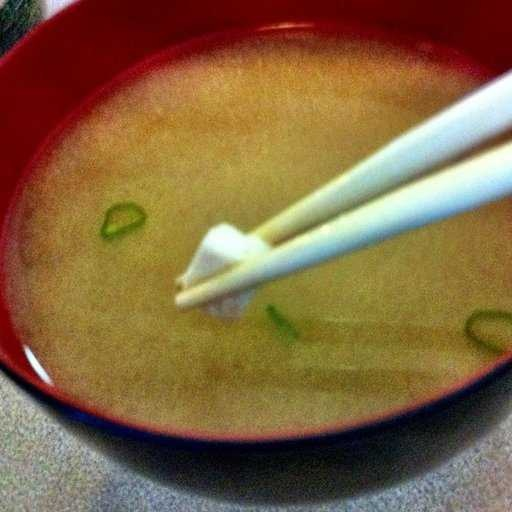soup: (1, 22, 509, 443)
